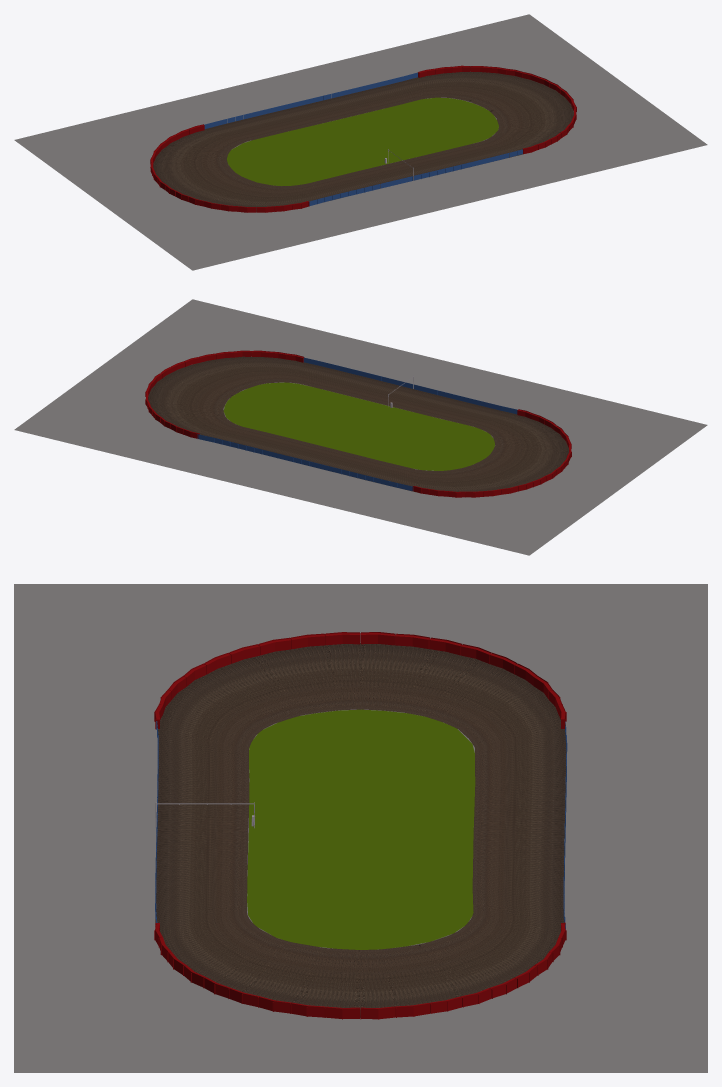
The model's file is tor_scena.fbx.
3 views of the same model, one above another, from view 1: azimuth 30°, elevation 25°; view 2: azimuth 150°, elevation 25°; view 3: azimuth 270°, elevation 25° (orthographic). The views are drawn at different scales.
Visible parts, largest first — view 1: Ziemia, Tor, Murawa, BandaDmuchana, Banda, BandaP; view 2: Ziemia, Tor, Murawa, BandaDmuchana, BandaP, Banda; view 3: Ziemia, Tor, Murawa, BandaDmuchana.
Boxes of the visible parts, left/top/right/bottom form: Ziemia: left=14, top=14, right=707, bottom=270; Tor: left=153, top=72, right=573, bottom=211; Murawa: left=227, top=97, right=498, bottom=186; BandaDmuchana: left=150, top=65, right=576, bottom=212; Banda: left=309, top=149, right=522, bottom=206; BandaP: left=204, top=72, right=417, bottom=128; Ziemia: left=14, top=299, right=707, bottom=555; Tor: left=148, top=356, right=568, bottom=492; Murawa: left=223, top=382, right=494, bottom=470; BandaDmuchana: left=145, top=350, right=571, bottom=497; BandaP: left=197, top=434, right=413, bottom=490; Banda: left=303, top=357, right=517, bottom=414; Ziemia: left=14, top=584, right=707, bottom=1072; Tor: left=155, top=643, right=566, bottom=1017; Murawa: left=247, top=709, right=475, bottom=949; BandaDmuchana: left=154, top=632, right=566, bottom=1019.
Bounding box in the file's own units: 120 × 200 × 5.57.
